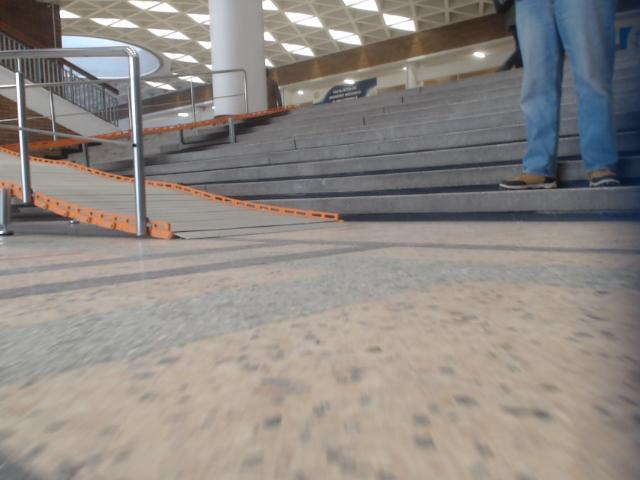rampUp: (145, 181, 338, 237), (31, 157, 135, 232), (0, 148, 20, 203)
ramps-railing: (0, 47, 146, 236), (154, 69, 248, 119), (11, 72, 40, 202), (60, 133, 127, 144), (0, 125, 51, 133), (49, 90, 56, 140)
